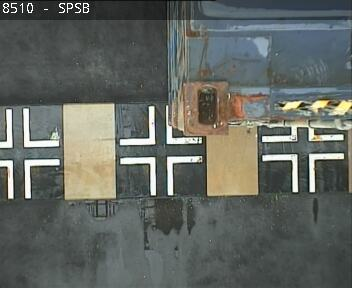groundmarker_1: (118, 105, 203, 147), (119, 155, 202, 195), (262, 152, 345, 192), (1, 158, 59, 198), (1, 108, 59, 147)
